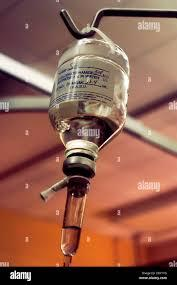Iv_Bottle: (49, 38, 128, 148)
Syringe: (61, 176, 89, 266)
